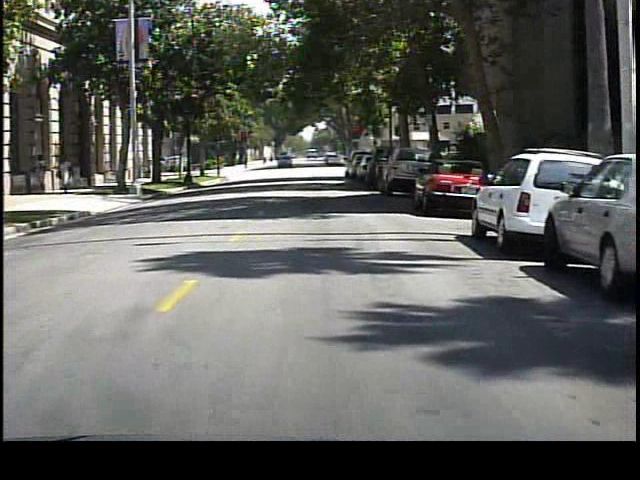person: (54, 154, 79, 194), (35, 150, 55, 192)
